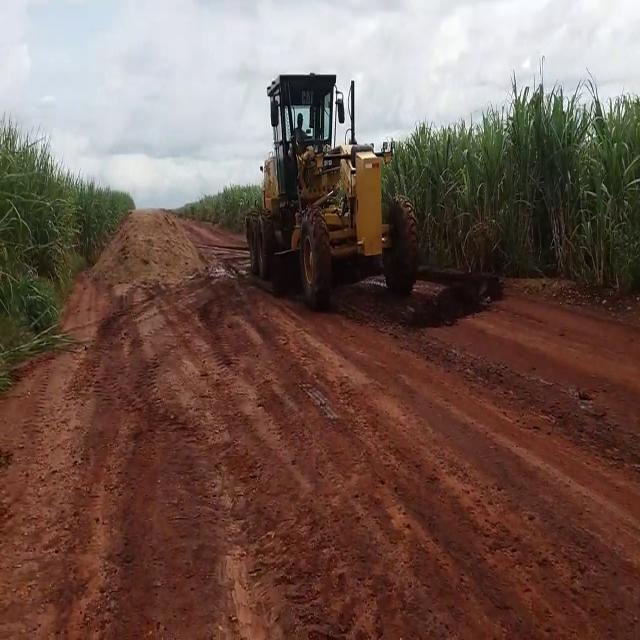buldozerpayloadergrader: (247, 73, 421, 307)
